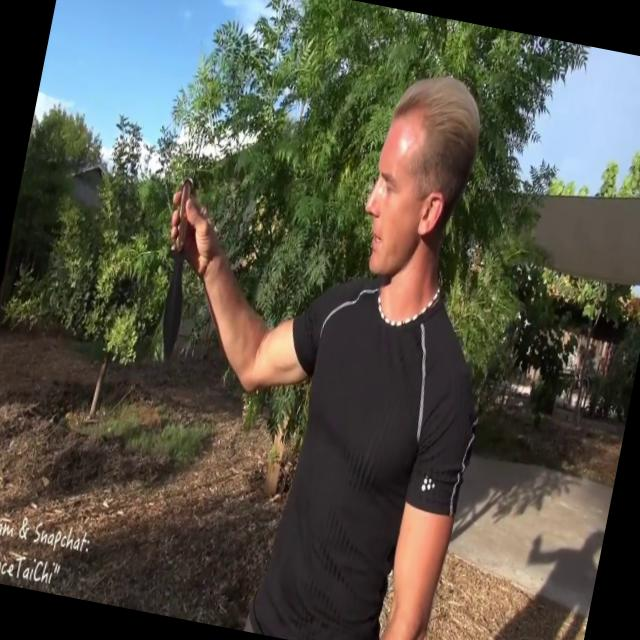knife: (142, 158, 219, 362)
